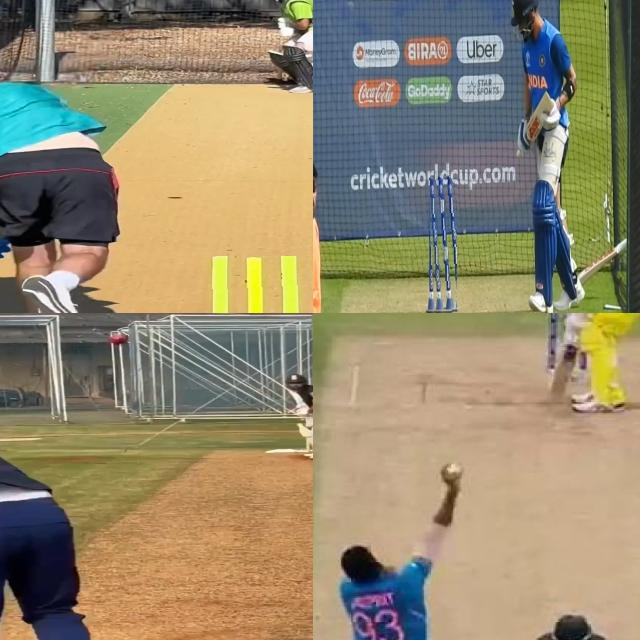Cricket ball: (446, 462, 462, 479)
Stumps: (192, 255, 313, 313), (426, 171, 457, 313), (109, 335, 128, 346)
